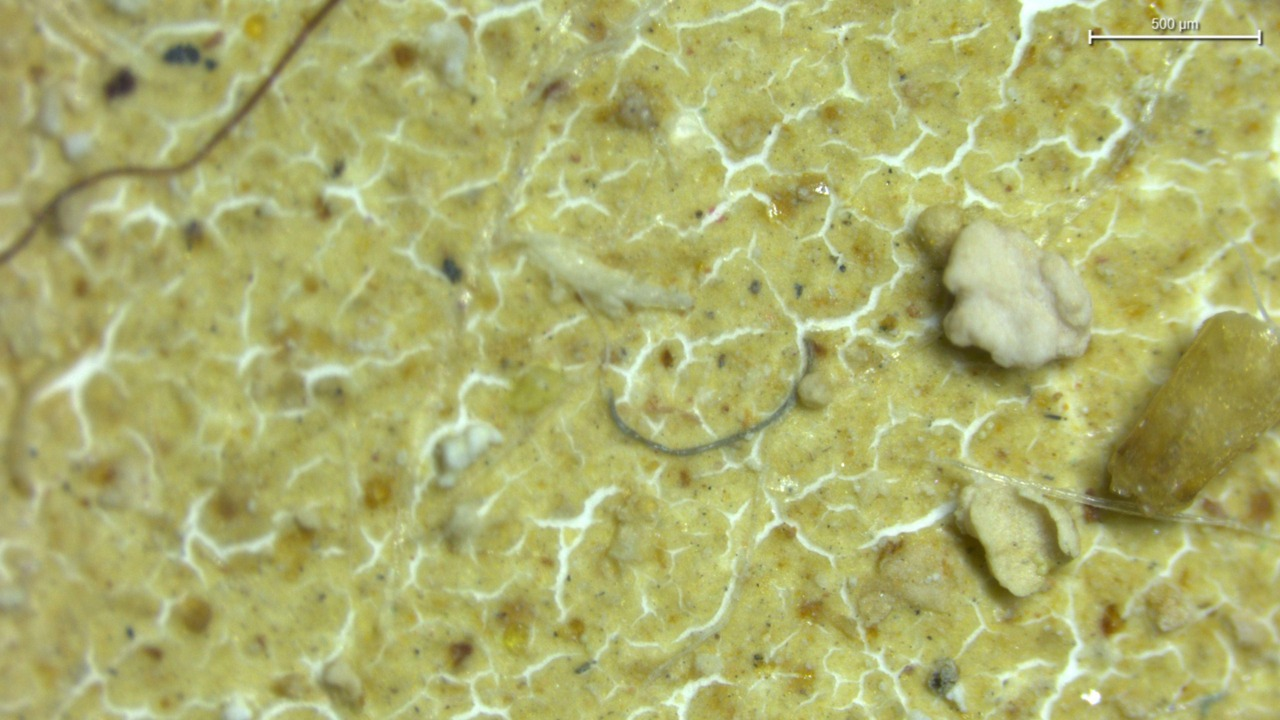microplastic_fragment: (940, 216, 1098, 376), (955, 479, 1079, 597), (797, 371, 831, 408)
